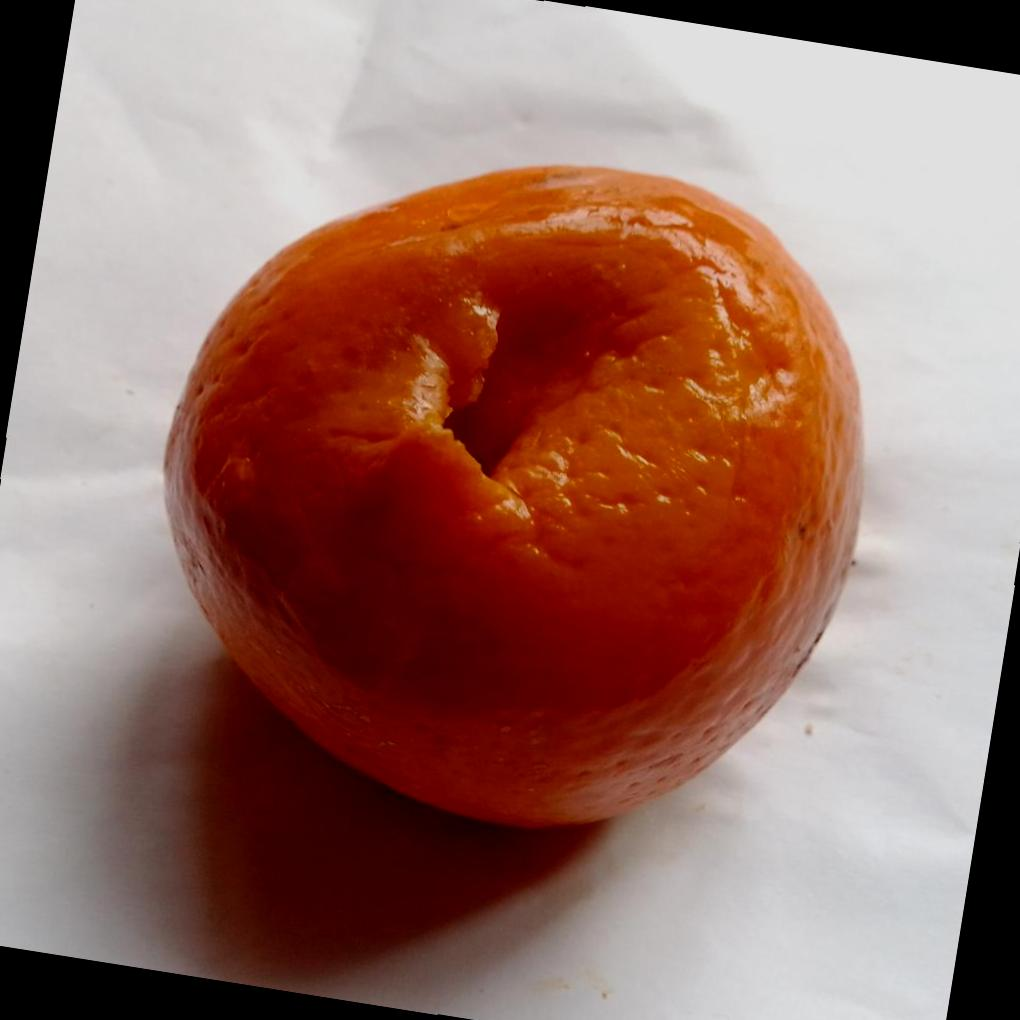FreshOrange: (160, 165, 865, 833)
